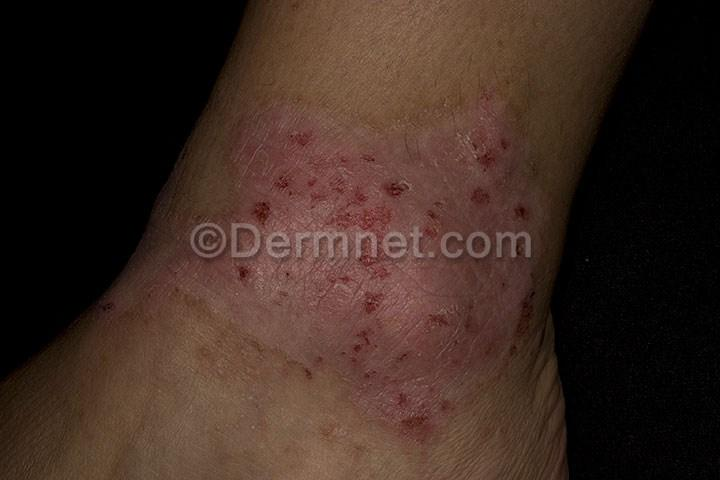Eczema: (187, 255, 548, 453), (211, 90, 547, 230)
